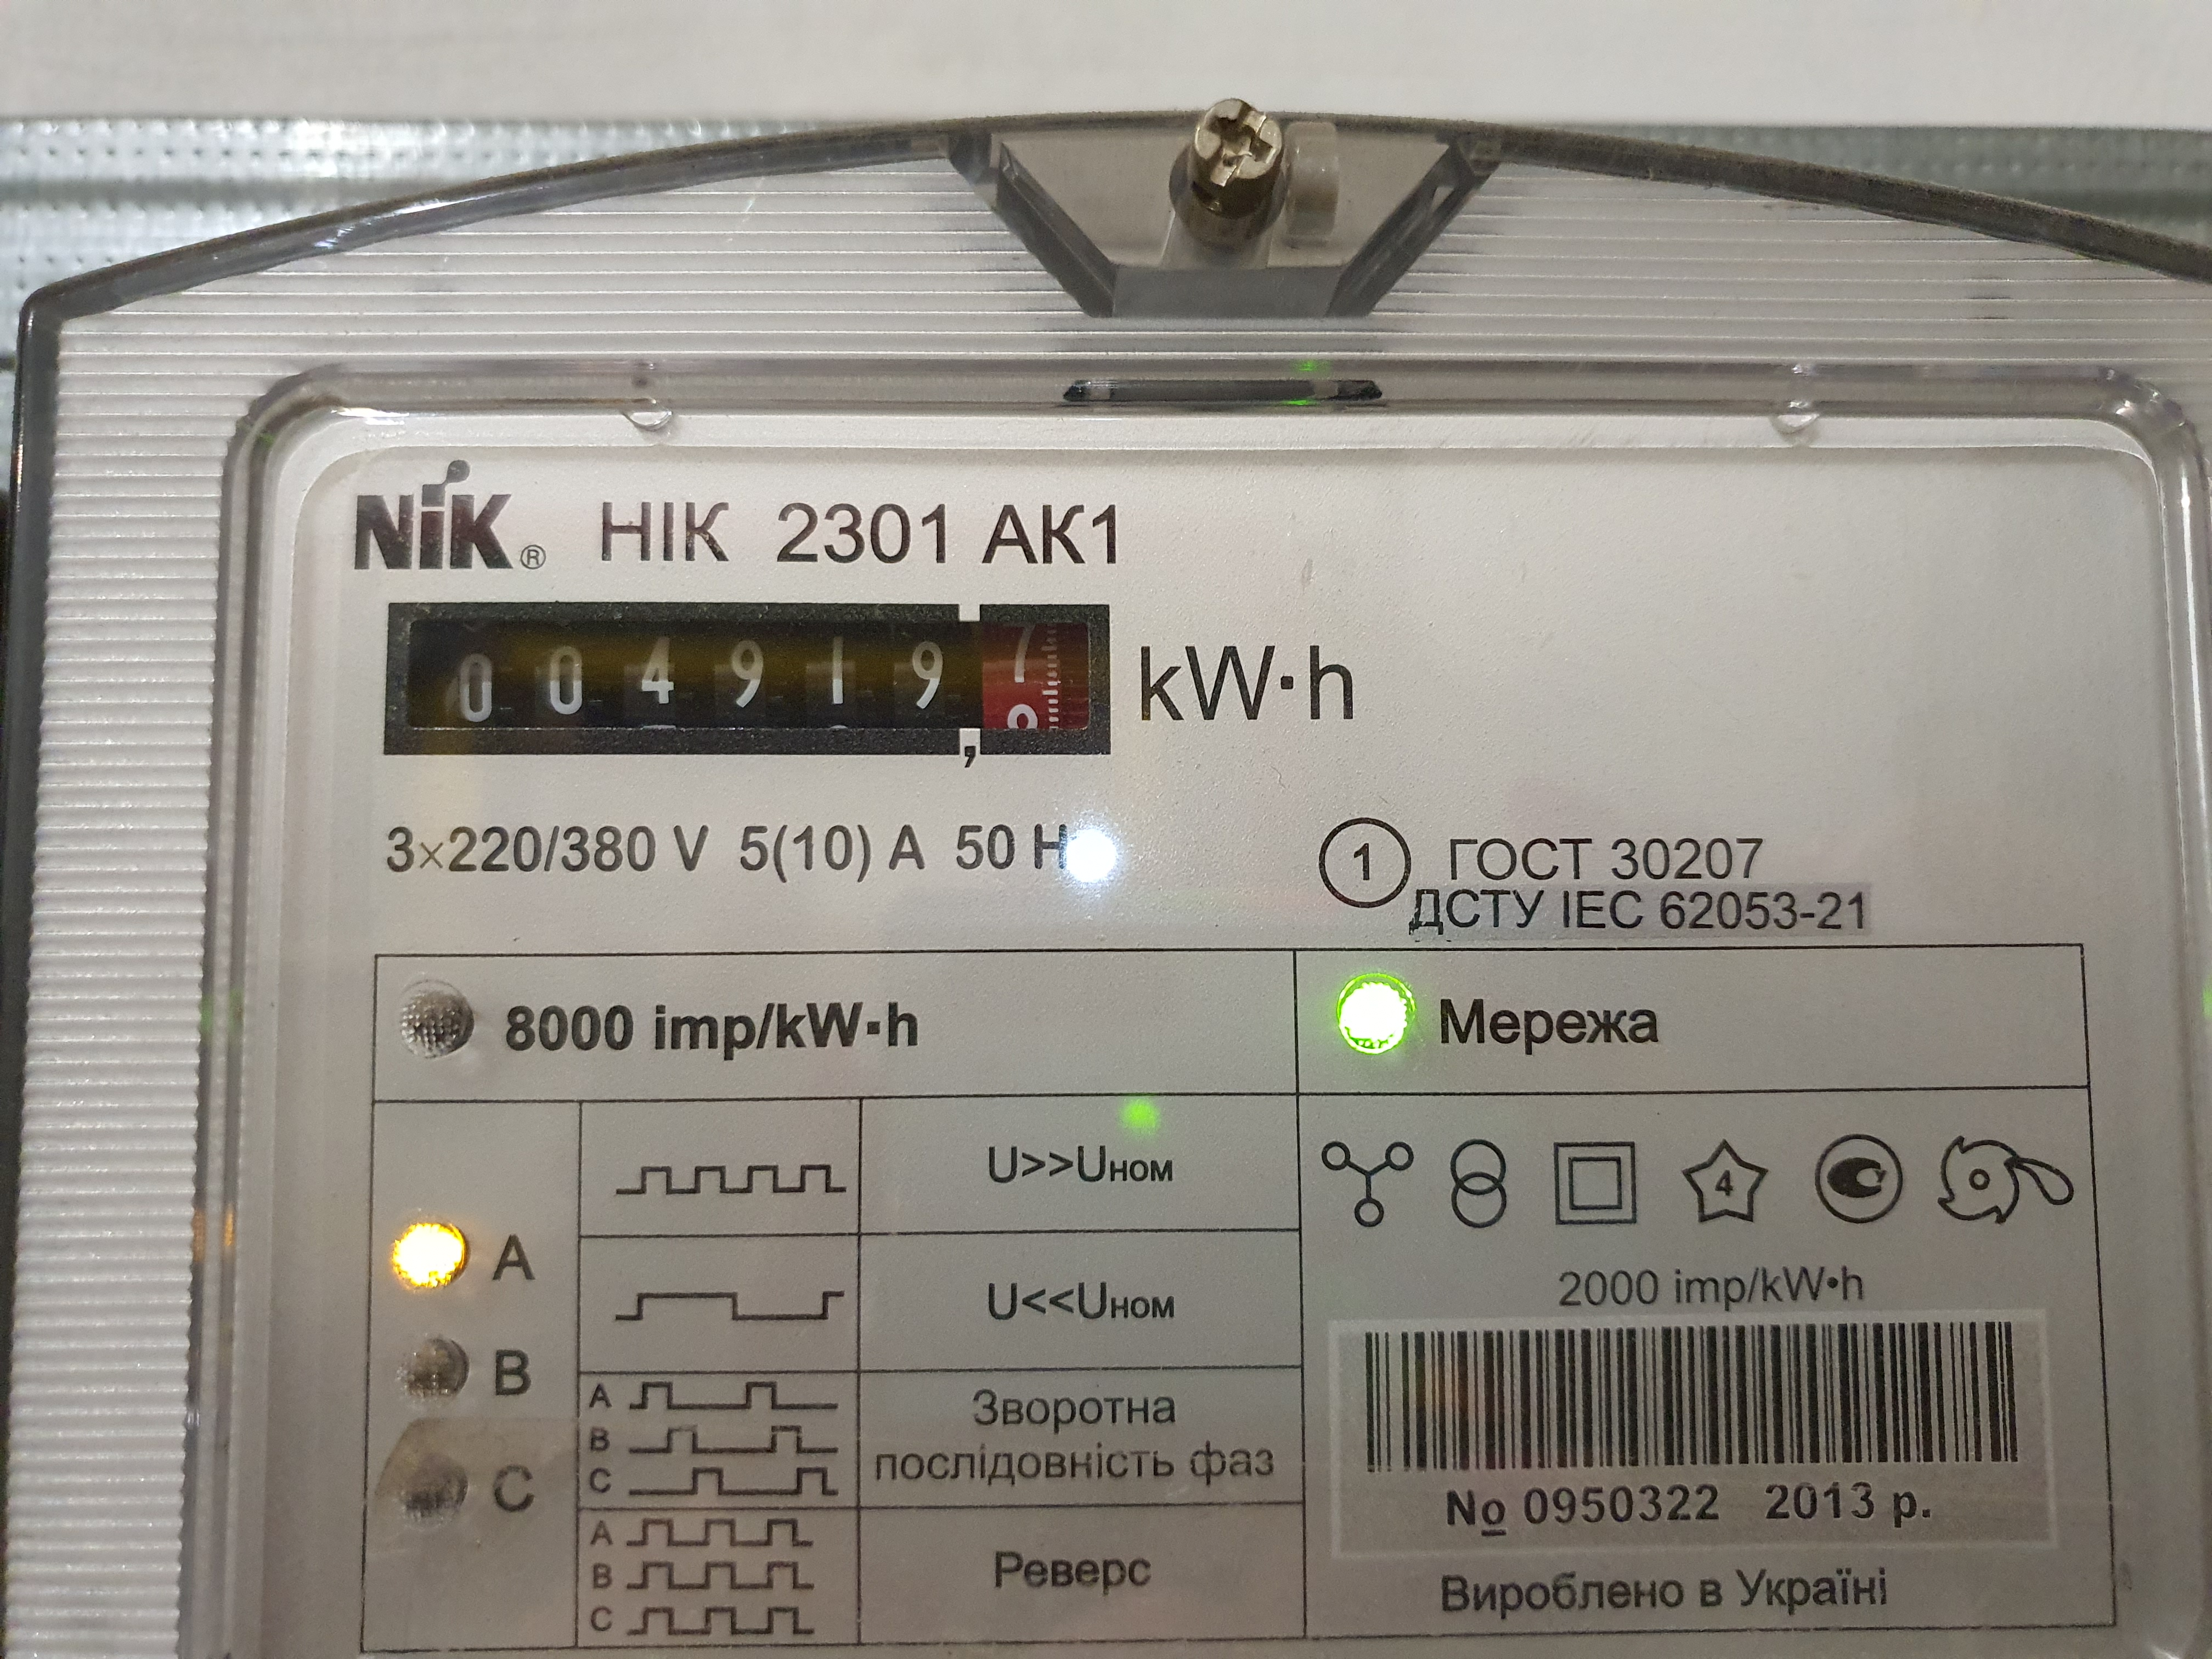0: (543, 640, 589, 718), (455, 648, 496, 725)
1: (824, 631, 850, 709)
4: (634, 631, 676, 706)
7: (998, 619, 1038, 687)
9: (906, 634, 946, 716), (726, 638, 766, 713)
screen: (364, 579, 1141, 786)
